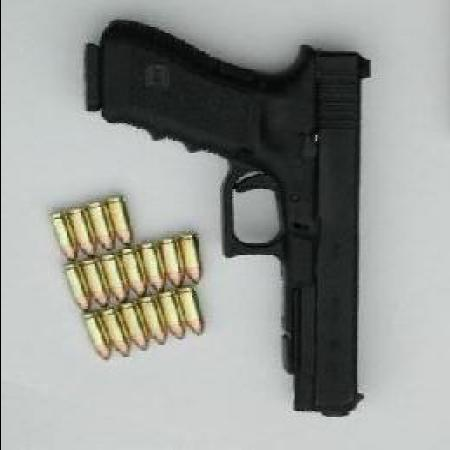Pistol: (80, 18, 366, 412)
